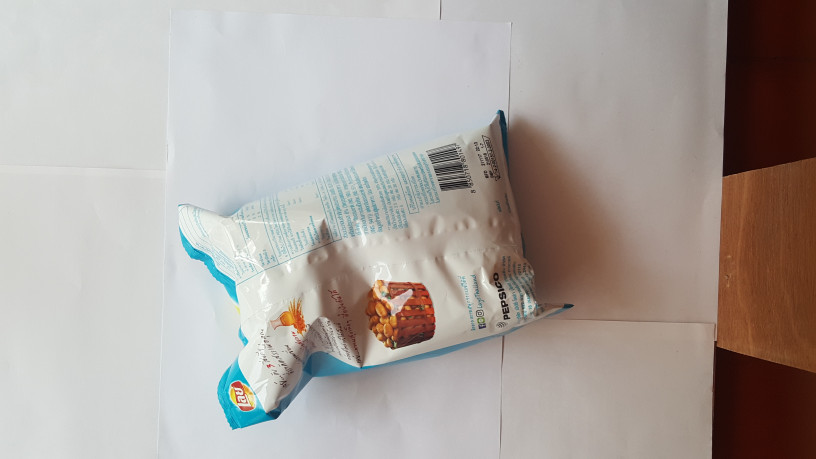lays-onion: (161, 118, 588, 443)
